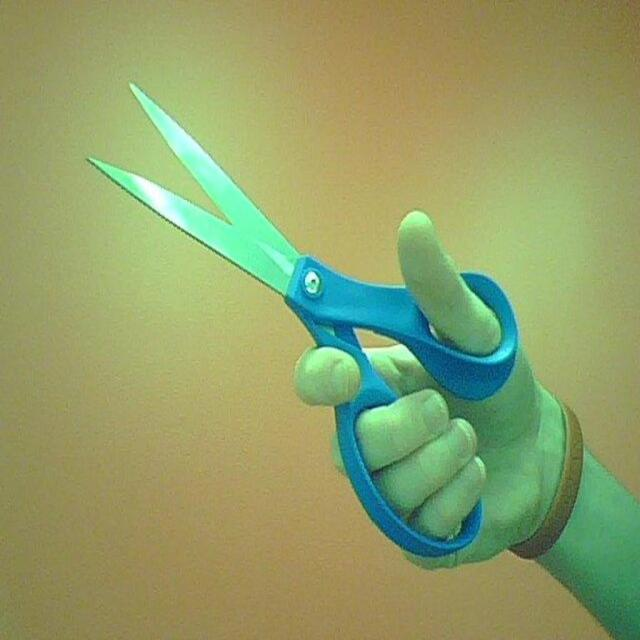scissors: (86, 80, 518, 558)
